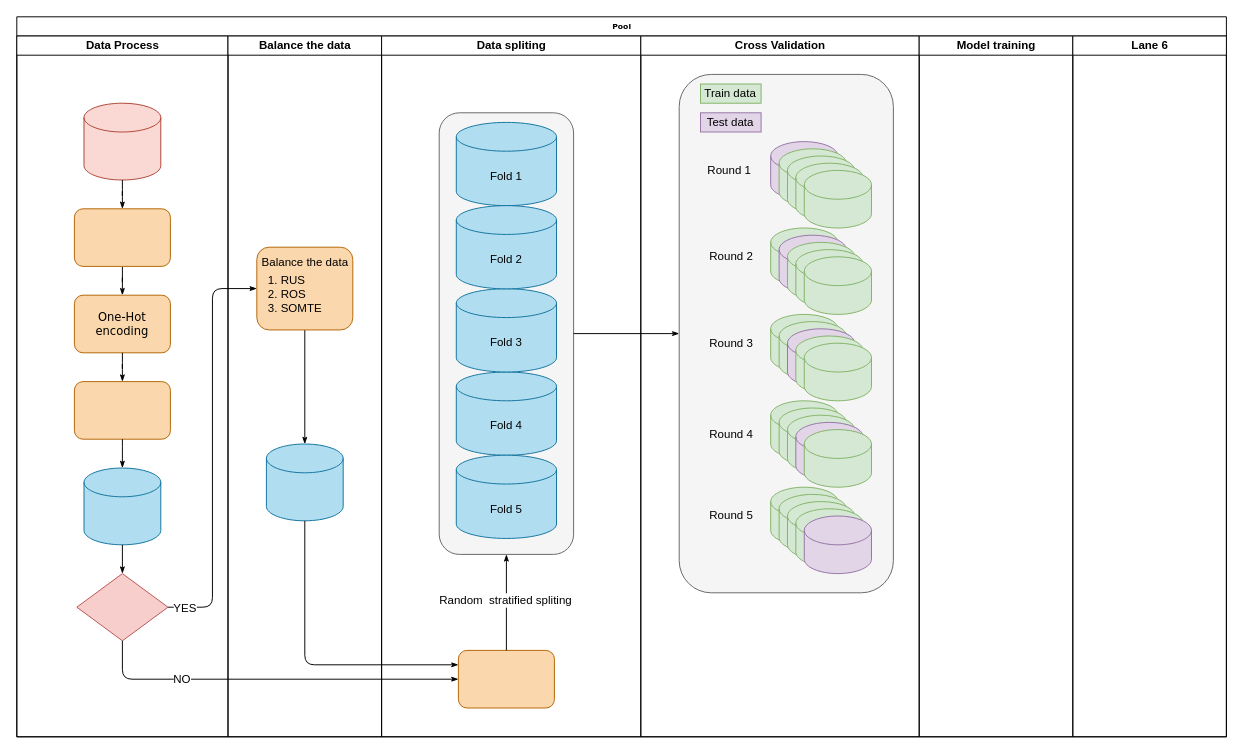
Some shapes in this 1243 by 754 pixel diagram are drawn without their labels. Here are the shapes that lost their labels. From the top down, the centre of each, then its label:
At point 122,141: "Raw Data".
At point 121,237: "Drop missing values".
At point 121,410: "Data normalization".
At point 304,482: "Balance Data".
At point 122,506: "Clear Data".
At point 122,607: "Imbalance data?".
At point 505,678: "5 fold spliting".
